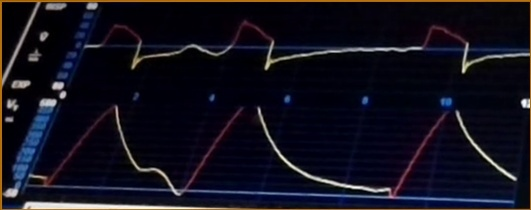Ineffective_effort Flow: (86, 19, 529, 80)
Ineffective_effort Volume: (33, 106, 517, 203)
